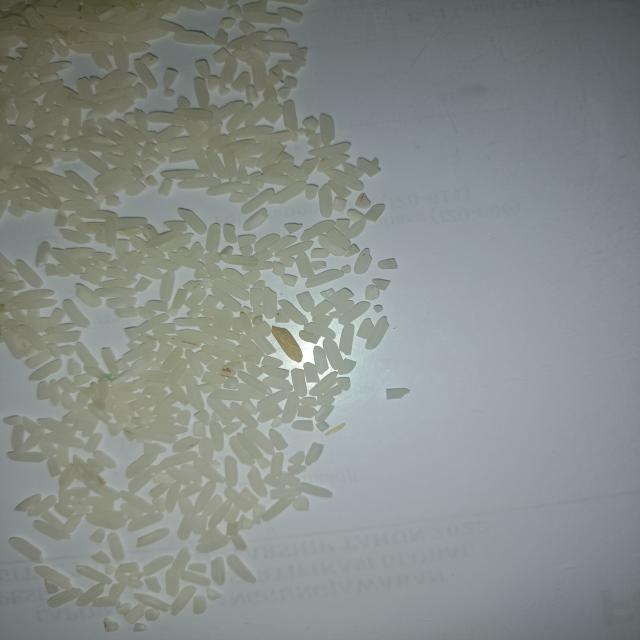Bulir_padi: (271, 324, 308, 367)
